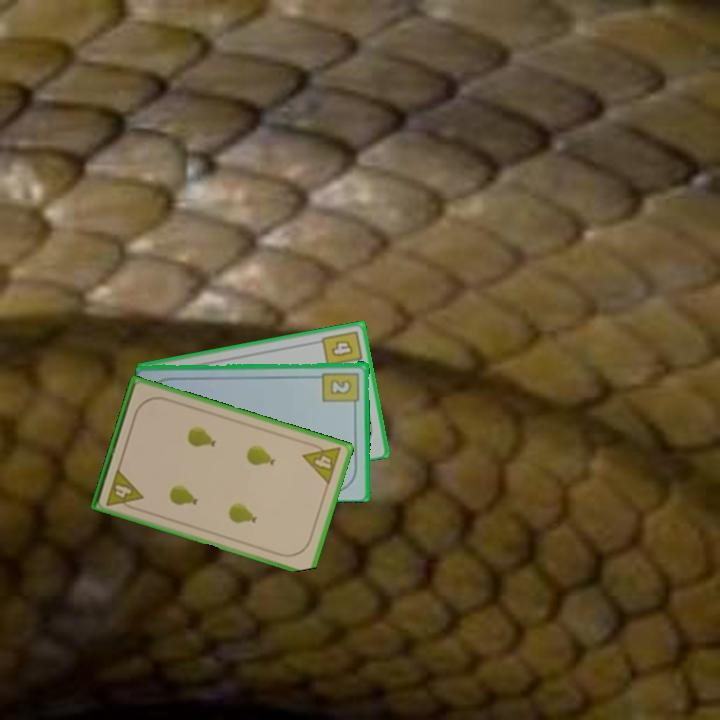2b: (320, 369, 362, 410)
4b: (318, 327, 365, 370)
4p: (299, 438, 344, 488), (103, 465, 146, 513)
